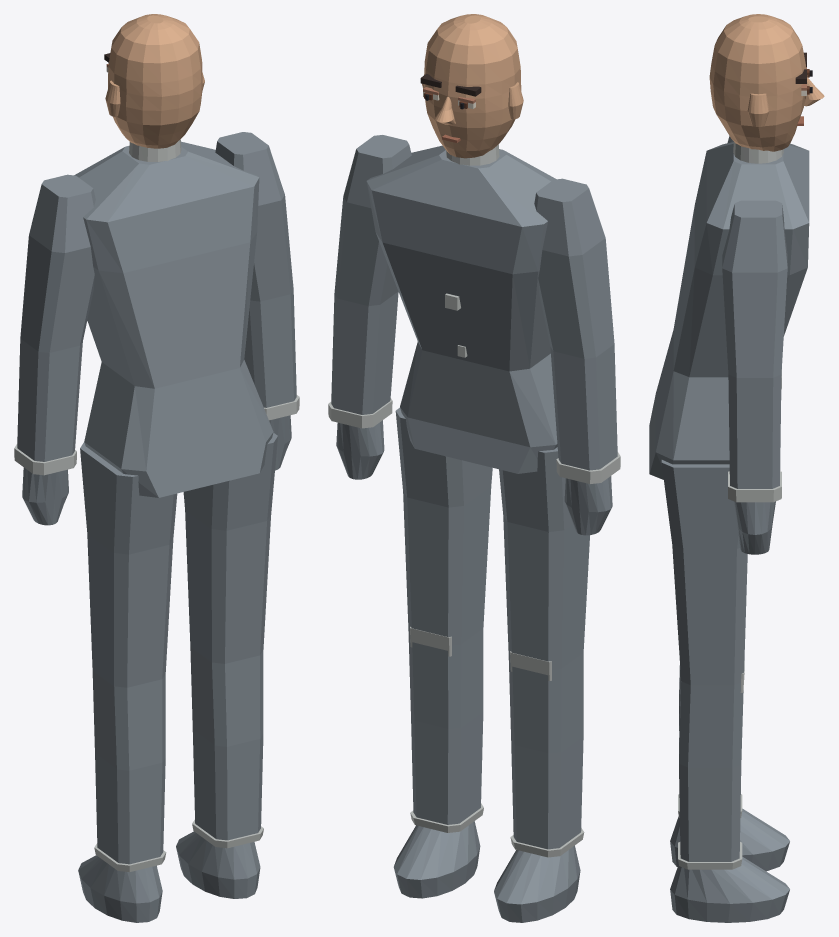
3 views of the same model, side by side, from view 1: azimuth 30°, elevation 25°; view 2: azimuth 150°, elevation 25°; view 3: azimuth 270°, elevation 25° (orthographic). The views are drawn at different scales.
Visible parts, largest first — view 1: 精细体素成年人体母版A（直线肩胯） · frail局部派生, 精细成年头部母版; view 2: 精细体素成年人体母版A（直线肩胯） · frail局部派生, 精细成年头部母版; view 3: 精细体素成年人体母版A（直线肩胯） · frail局部派生, 精细成年头部母版.
Boxes of the visible parts, x1=… form: 精细体素成年人体母版A（直线肩胯） · frail局部派生: x1=14, y1=132, x2=299, y2=922; 精细成年头部母版: x1=104, y1=14, x2=204, y2=148; 精细体素成年人体母版A（直线肩胯） · frail局部派生: x1=328, y1=135, x2=620, y2=922; 精细成年头部母版: x1=420, y1=14, x2=523, y2=158; 精细体素成年人体母版A（直线肩胯） · frail局部派生: x1=649, y1=136, x2=809, y2=922; 精细成年头部母版: x1=709, y1=14, x2=824, y2=151.
Bounding box in the file's own units: 0.5458 × 1.68 × 0.3076.
Materials: 9 (9 with a texture image).
